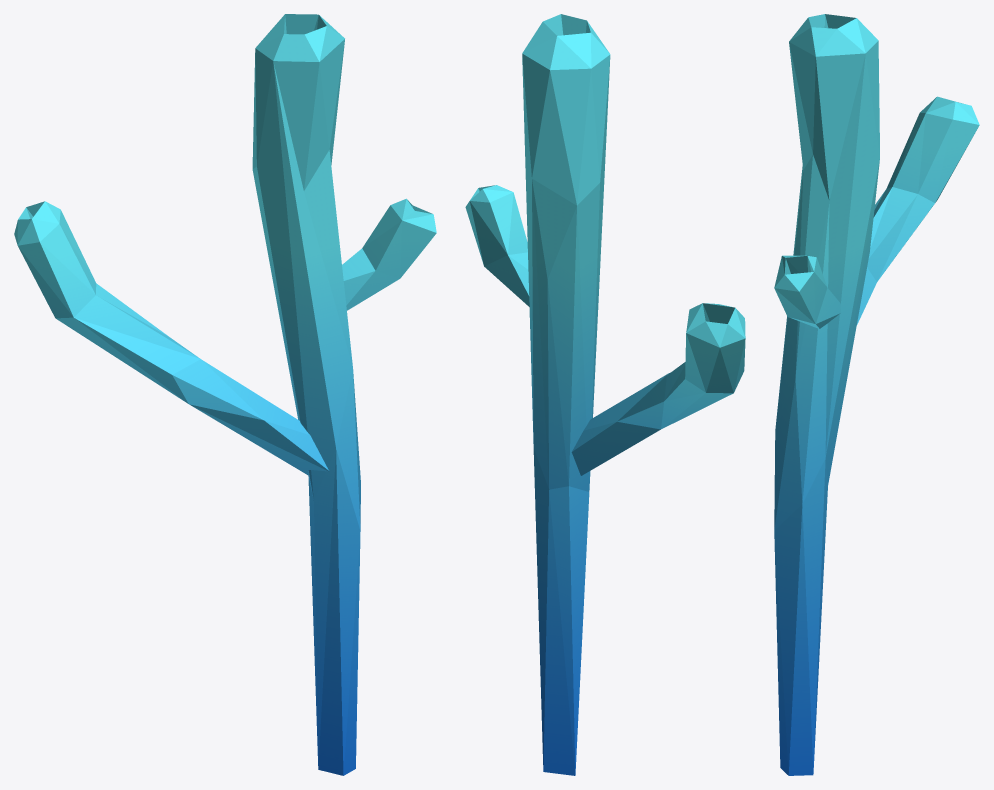
Rendered from SM_Spongia_12.fbx.
3 views of the same model, side by side, from view 1: azimuth 30°, elevation 25°; view 2: azimuth 150°, elevation 25°; view 3: azimuth 270°, elevation 25° (orthographic). The views are drawn at different scales.
Visible parts, largest first — view 1: Spongia_12; view 2: Spongia_12; view 3: Spongia_12.
Boxes of the visible parts, left/top/right/bottom form: Spongia_12: left=14, top=14, right=436, bottom=775; Spongia_12: left=465, top=14, right=745, bottom=775; Spongia_12: left=774, top=14, right=979, bottom=775.
Bounding box in the file's own units: 49.55 × 102 × 25.68.
